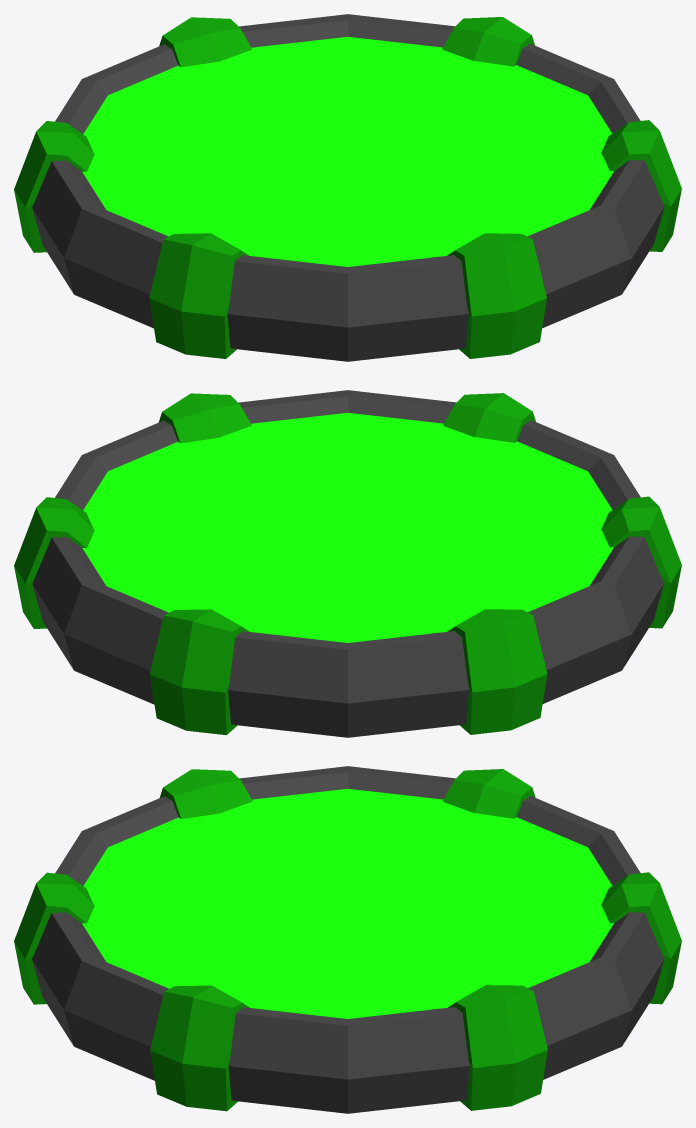
Rendered from Launchpad.fbx.
3 views of the same model, one above another, from view 1: azimuth 30°, elevation 25°; view 2: azimuth 150°, elevation 25°; view 3: azimuth 270°, elevation 25° (orthographic).
Parts seen in each view (by area): view 1: Launchpad; view 2: Launchpad; view 3: Launchpad.
Boxes of the visible parts, left/top/right/bottom form: Launchpad: left=14, top=14, right=681, bottom=361; Launchpad: left=14, top=390, right=681, bottom=737; Launchpad: left=14, top=766, right=681, bottom=1113.
Size of the model in its own units: 3.13 by 0.5501 by 3.19.
